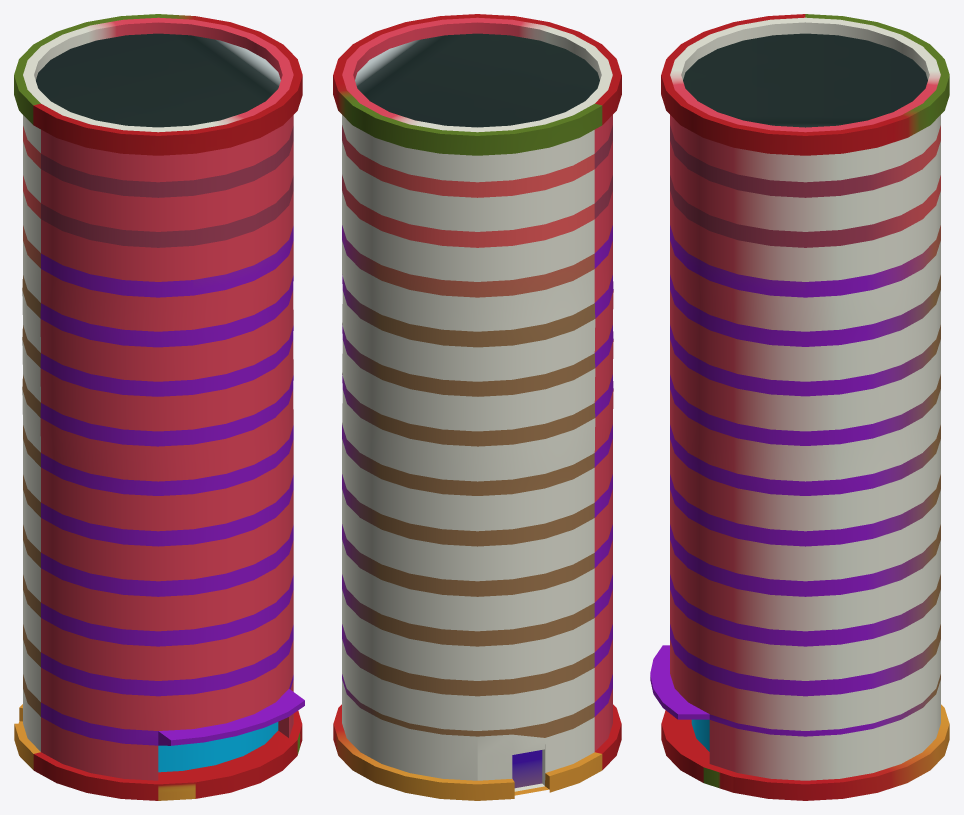
The model's file is Building1.fbx.
3 views of the same model, side by side, from view 1: azimuth 30°, elevation 25°; view 2: azimuth 150°, elevation 25°; view 3: azimuth 270°, elevation 25° (orthographic).
Parts seen in each view (by area): view 1: Building1; view 2: Building1; view 3: Building1.
Part boxes in pixels (left/top/right/bottom): Building1: left=14, top=14, right=304, bottom=800; Building1: left=333, top=14, right=621, bottom=800; Building1: left=650, top=14, right=949, bottom=800.
Bounding box in the file's own units: 207 × 527 × 215.
